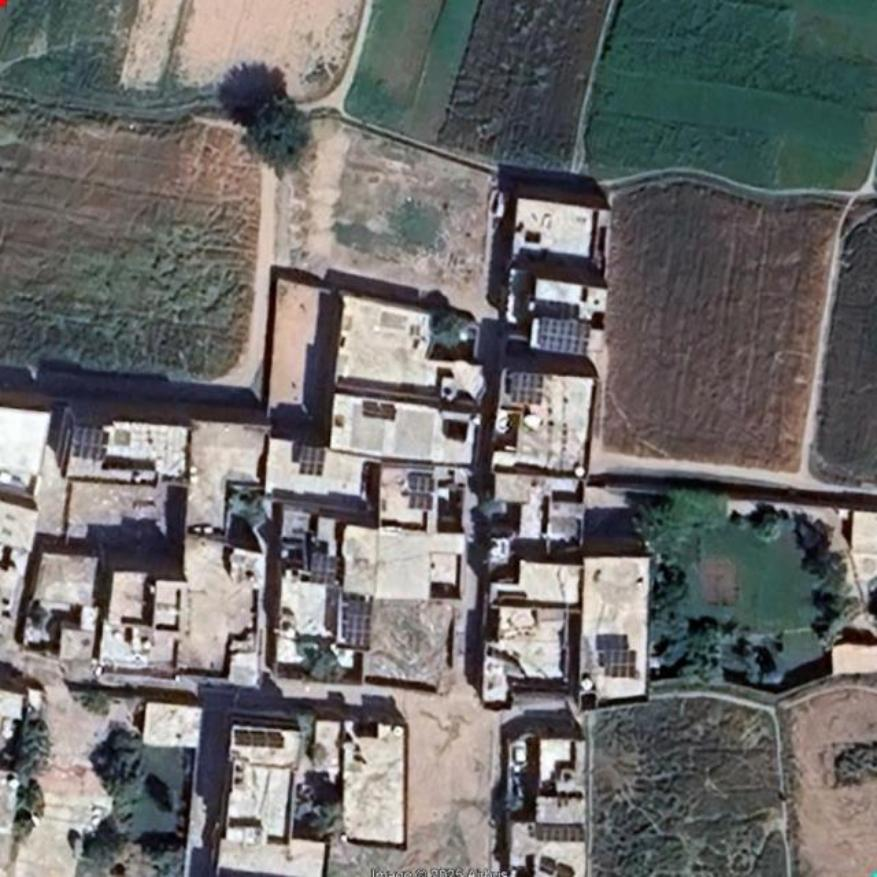Solarpanel: (540, 320, 594, 353), (343, 599, 373, 647), (72, 427, 110, 460), (509, 371, 544, 402), (602, 647, 639, 676), (310, 553, 337, 588), (410, 475, 432, 512), (300, 446, 322, 477)
